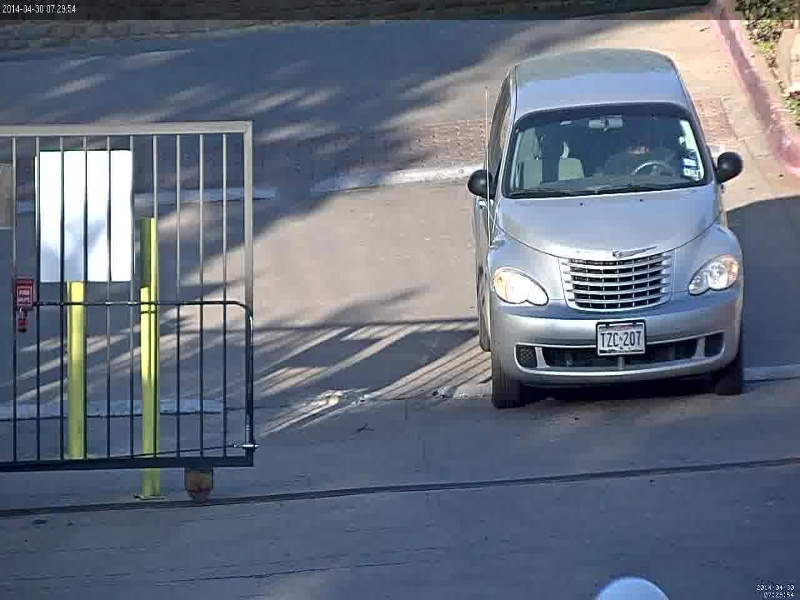licence plate: (594, 323, 647, 355)
